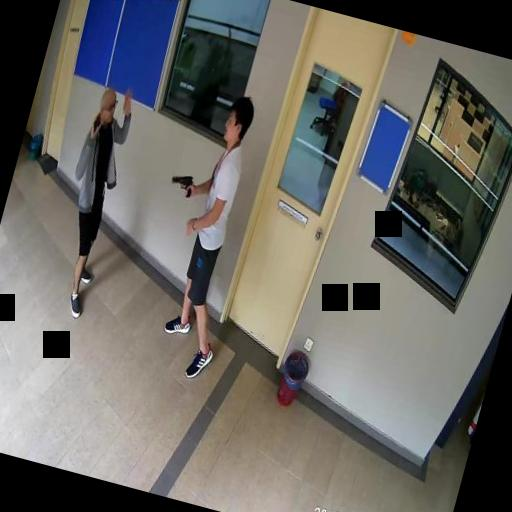Handgun: (167, 168, 195, 196)
